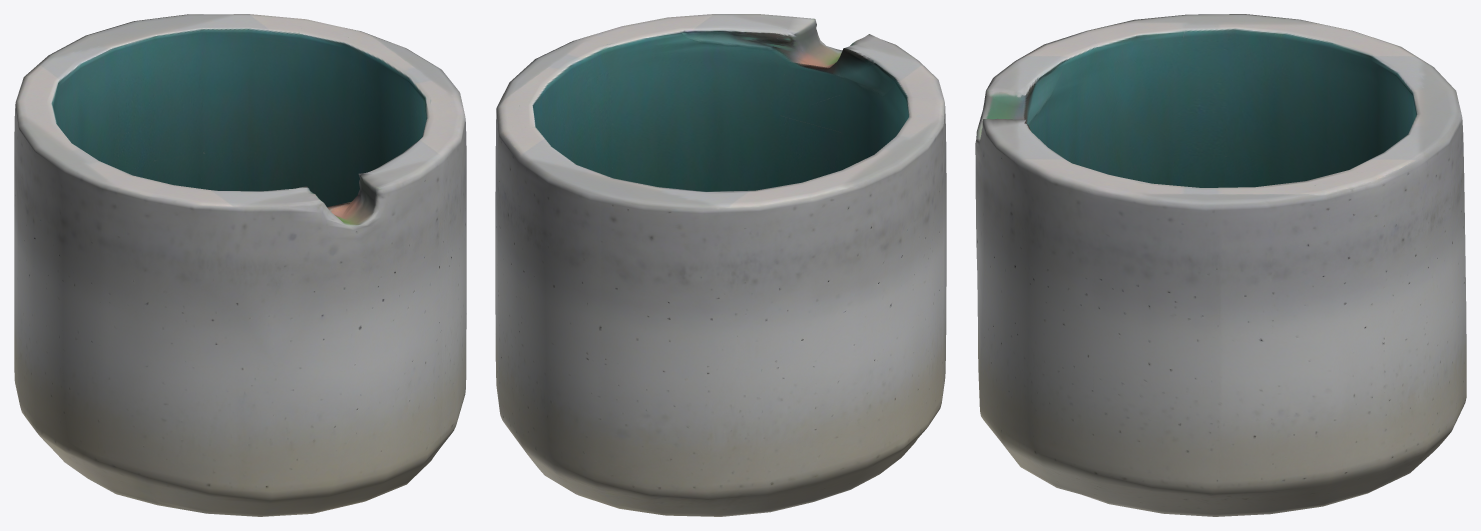
The model's file is pot_concrete_round.glb.
3 renders of one model, left to right at view 1: azimuth 30°, elevation 25°; view 2: azimuth 150°, elevation 25°; view 3: azimuth 270°, elevation 25°, orthographic.
Bounding box in the file's own units: 1.86 × 1.47 × 2.
1 material, 1 textured.
